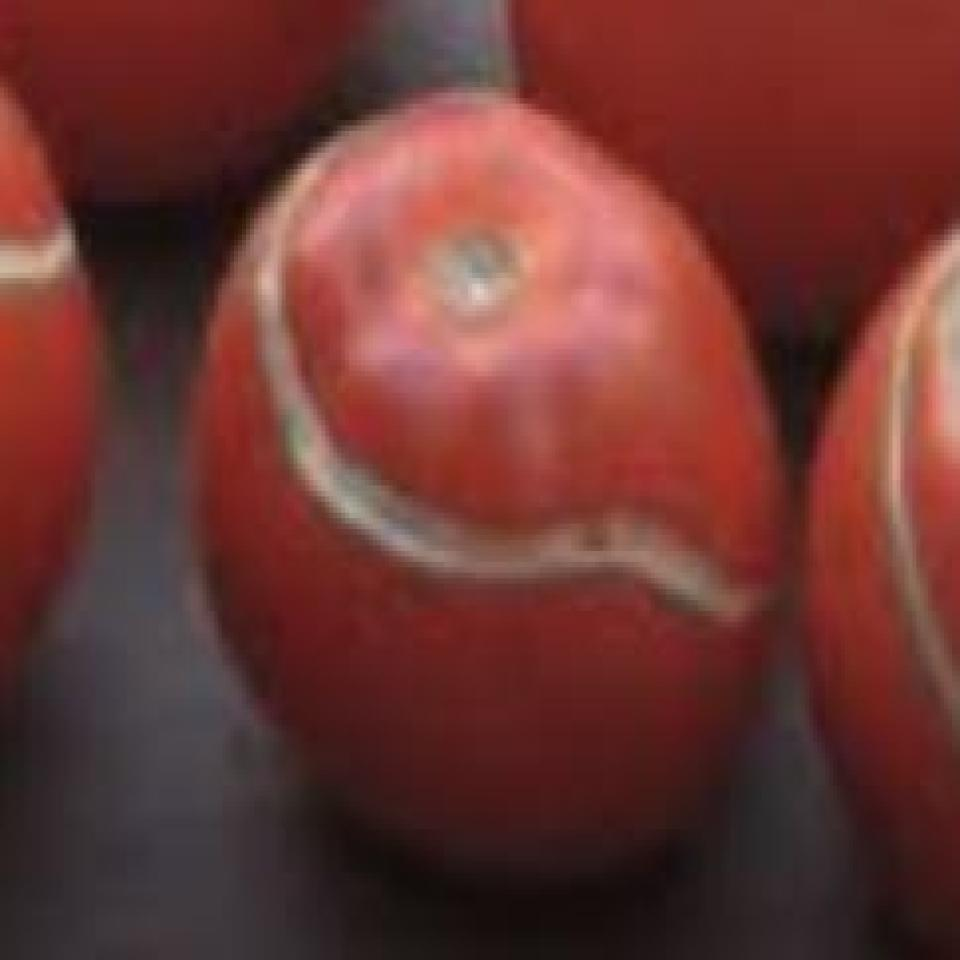Cracking: (231, 106, 773, 685), (858, 234, 956, 738), (0, 196, 79, 294)
